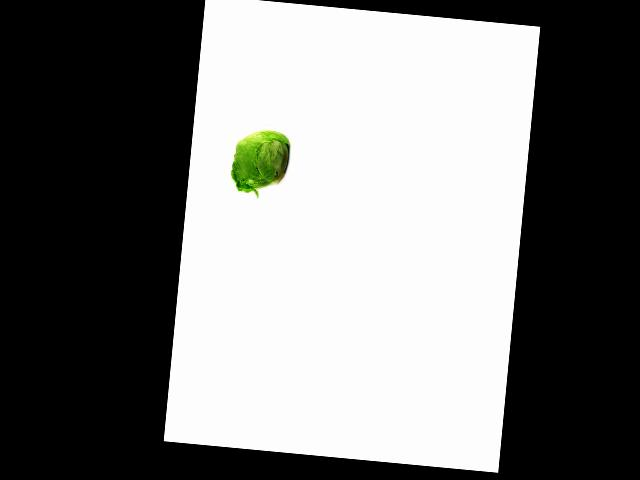lettuce: (227, 124, 293, 193)
